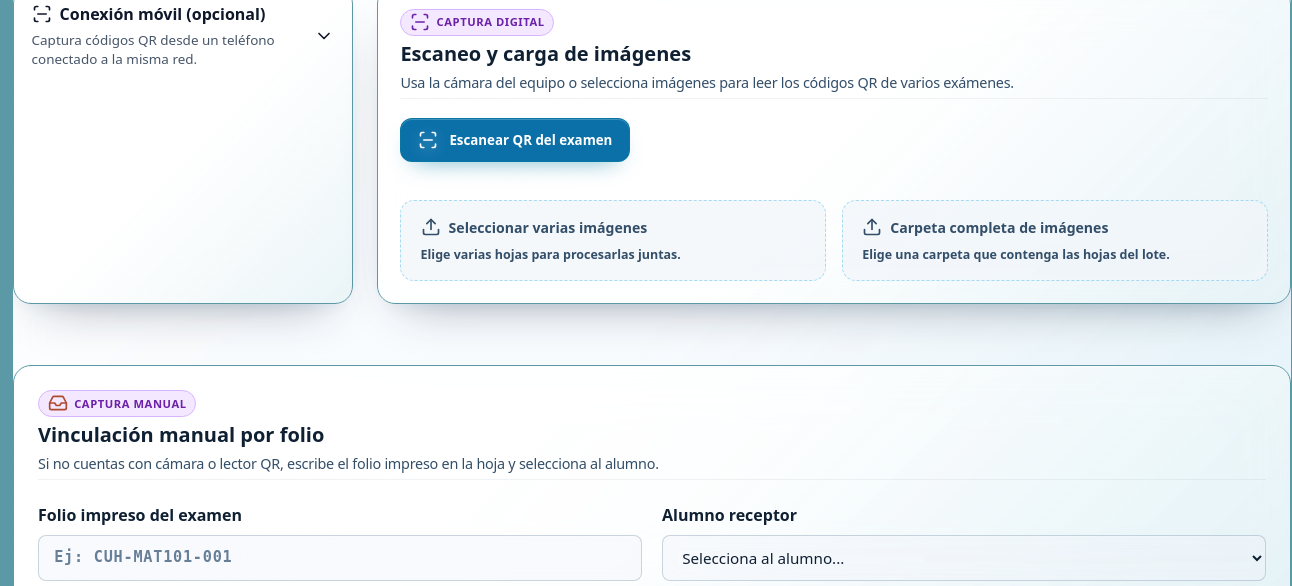
SeccionRegistroEntrega › anuncia una vinculación manual exitosa en contexto sin repetirla en un toast
The image size is (1292, 586).
Step 1. Type "EX-DUMMY-17" into the field labelled "Folio impreso del examen" → (340, 558), box [38,534,642,581]
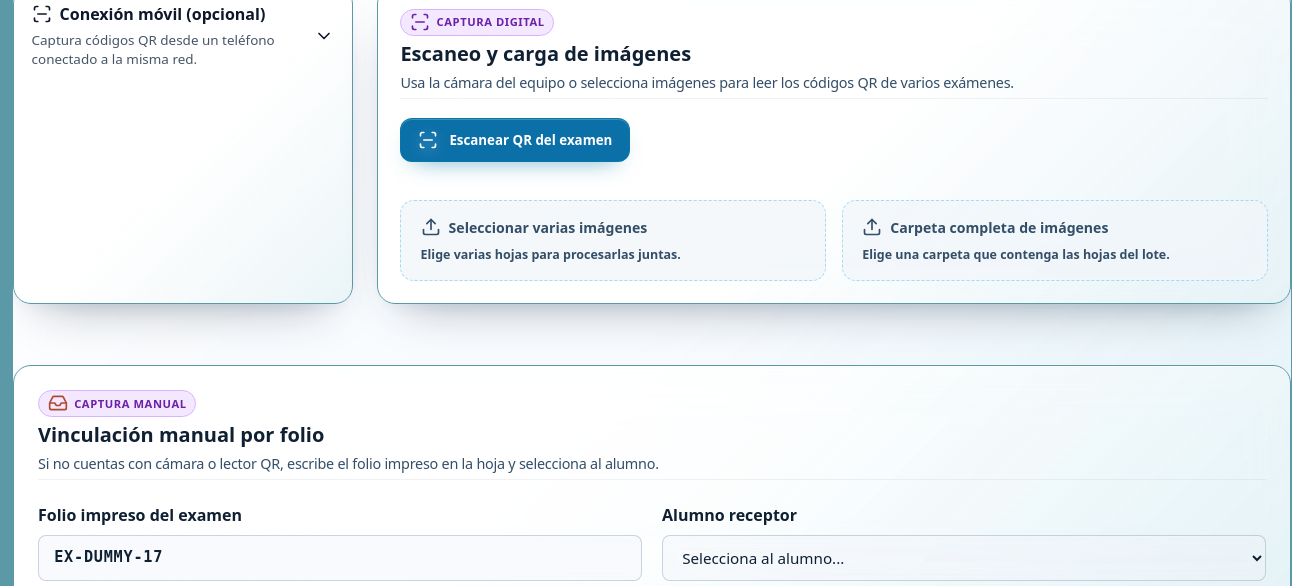
Step 2. Select "DUMMY-017 - Alumna de Prueba (2A)" in the dropdown labelled "Alumno receptor" → (964, 558), box [662,535,1266,581]
(page scrolled)
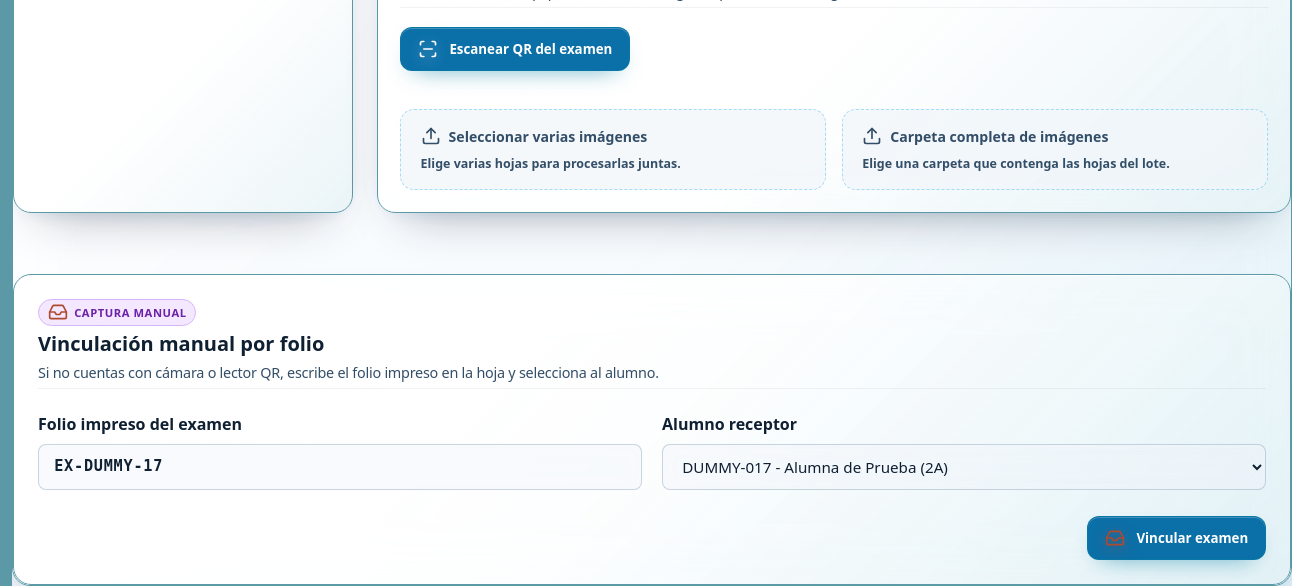
Step 3. Click the button "Vincular examen" → (1177, 538), box [1087,516,1266,560]
(page scrolled)
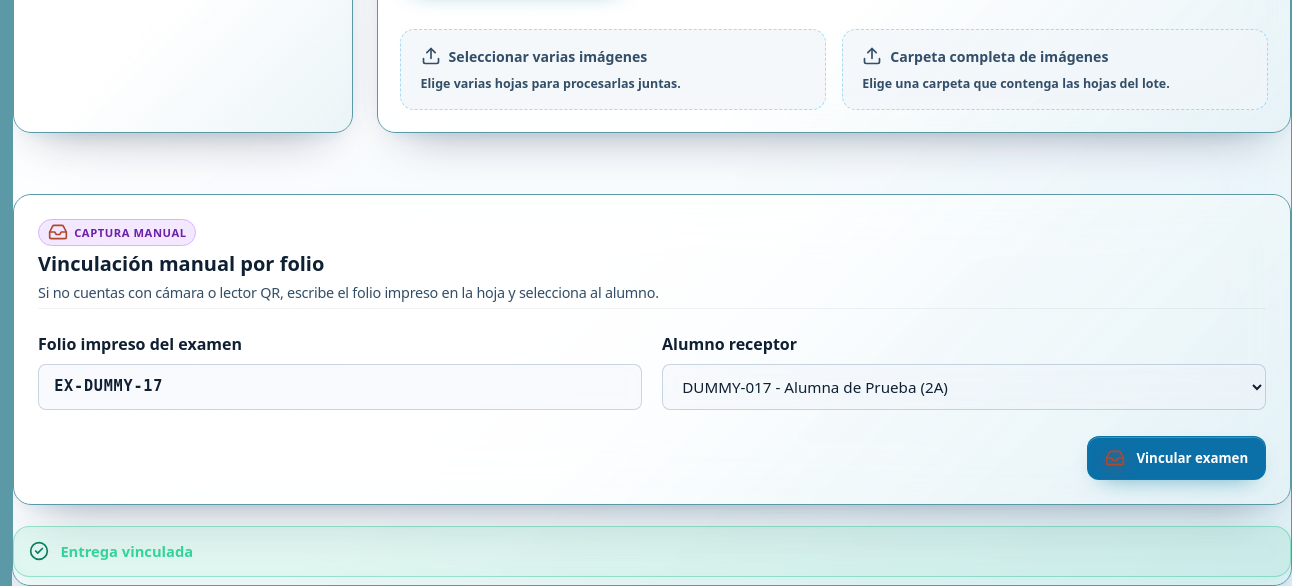
Expected: the text "Entrega vinculada" is shown, [13,526,1291,576]
